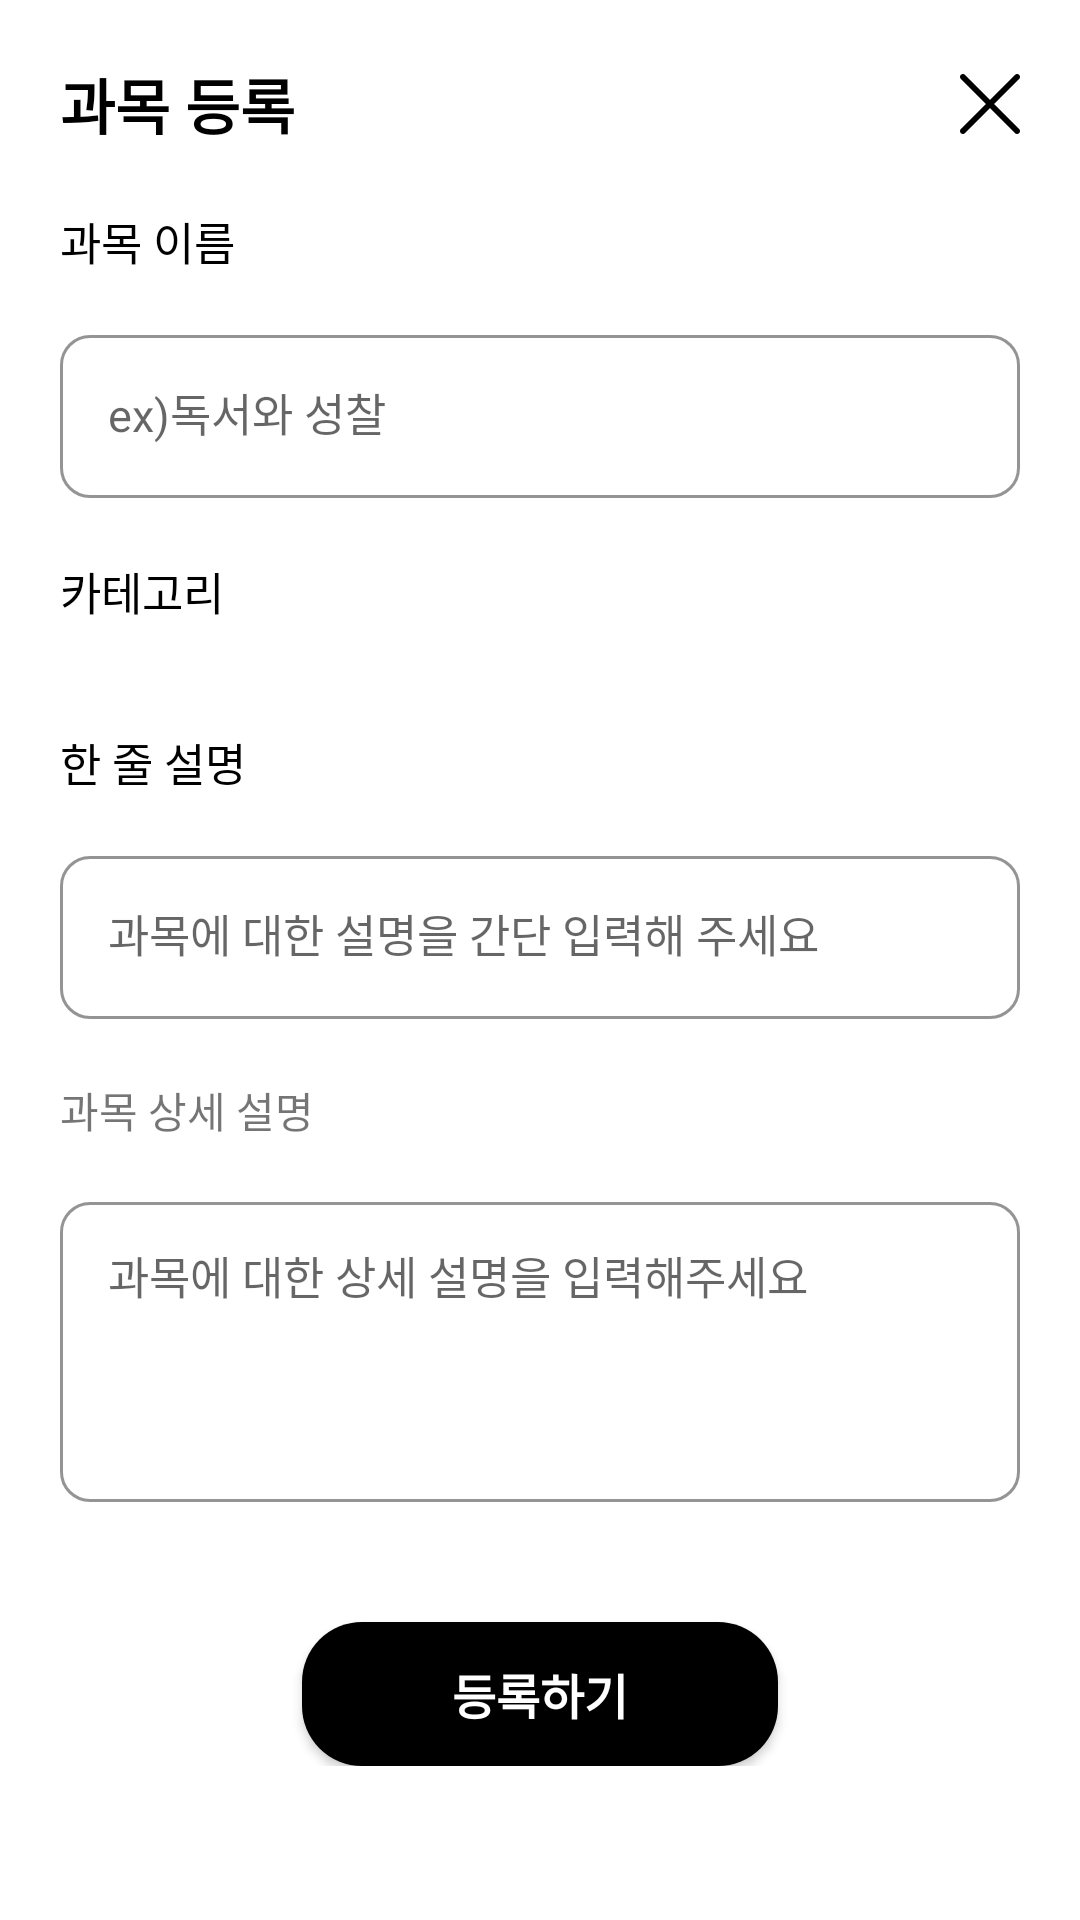

Icons on this 1080px×1920px Android screen, each with its box as box=[x1, y1, x2, y2]:
close: box=[960, 74, 1020, 134]
